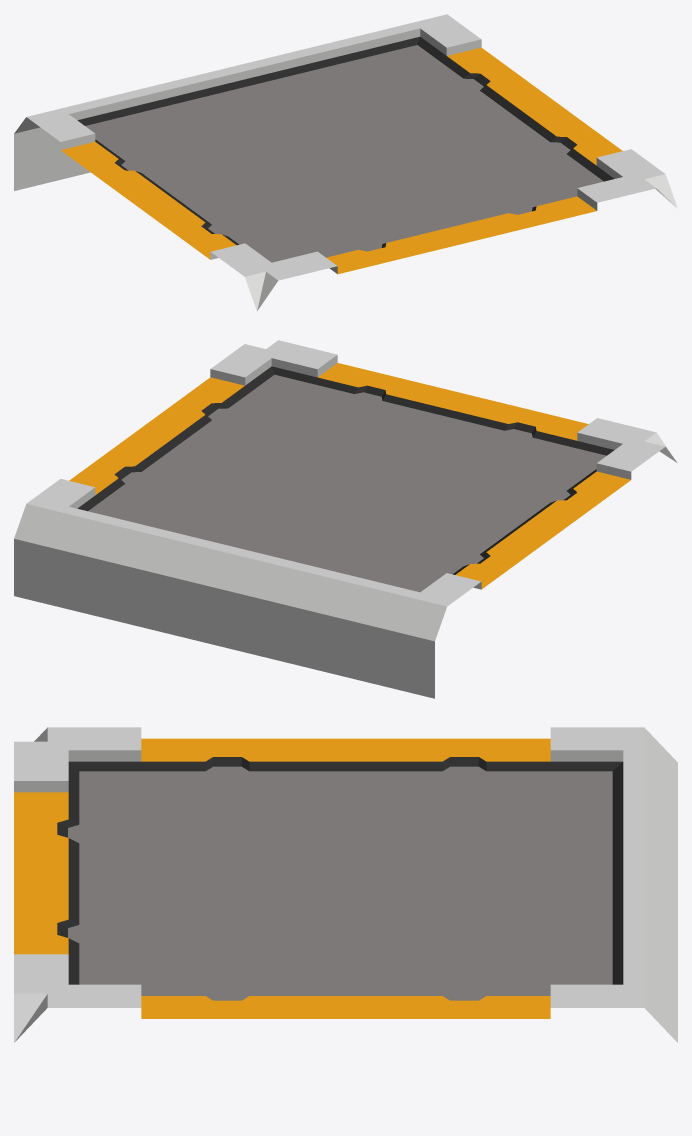
File: road_T_type_02.fbx
3 renders of one model, top to bottom at view 1: azimuth 30°, elevation 25°; view 2: azimuth 150°, elevation 25°; view 3: azimuth 270°, elevation 25°, orthographic. The views are drawn at different scales.
Parts seen in each view (by area): view 1: road_T_type_02; view 2: road_T_type_02; view 3: road_T_type_02.
Part boxes in pixels (<box>): road_T_type_02: <box>14,14,677,311</box>; road_T_type_02: <box>14,340,677,698</box>; road_T_type_02: <box>14,727,677,1042</box>.
Size of the model in its own units: 334 by 63.09 by 334.
Materials: 1 (1 with a texture image).
